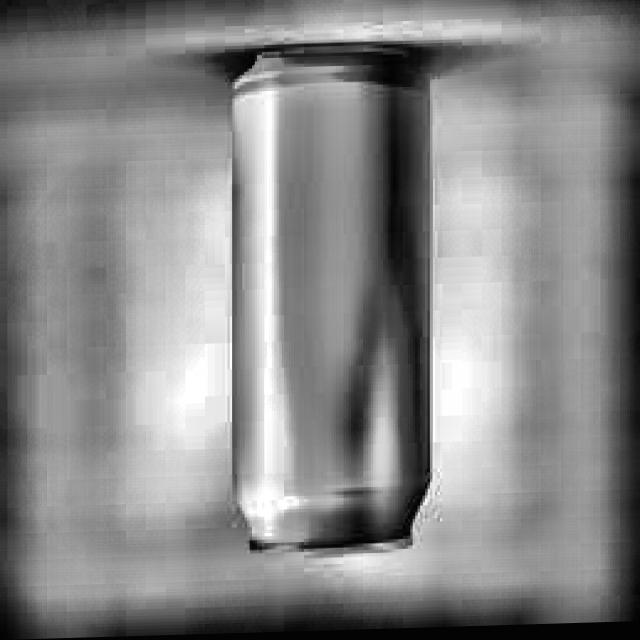can: (224, 37, 436, 566)
